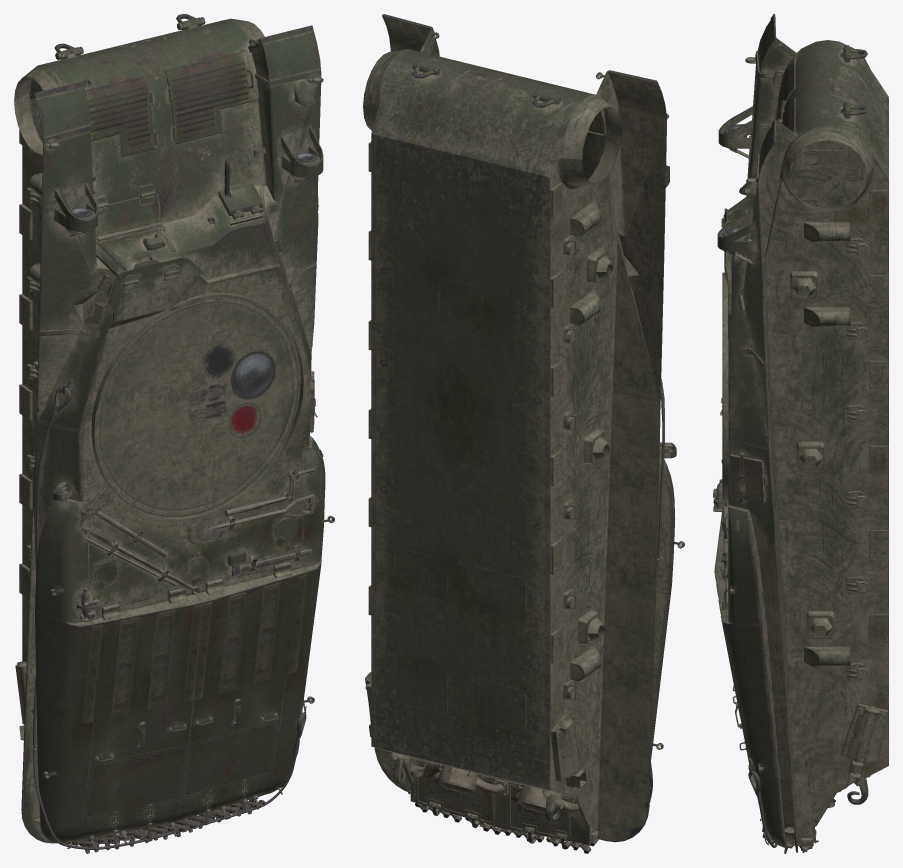
File: Hull.glb
3 renders of one model, left to right at view 1: azimuth 30°, elevation 25°; view 2: azimuth 150°, elevation 25°; view 3: azimuth 270°, elevation 25°, orthographic. The views are drawn at different scales.
Visible parts, largest first — view 1: set_0_group_0; view 2: set_0_group_0; view 3: set_0_group_0.
Boxes of the visible parts, bbox=[...] form: set_0_group_0: bbox=[14, 14, 334, 853]; set_0_group_0: bbox=[363, 14, 684, 853]; set_0_group_0: bbox=[713, 14, 888, 853].
Bounding box in the file's own units: 2.34 × 6.12 × 1.31.
1 material, 1 textured.
